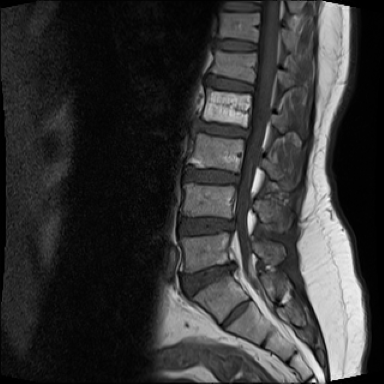Degenerative Disc Disease (DDD): (189, 118, 254, 142)
Lumbar Disc Bulge (LDB): (175, 254, 240, 304), (170, 210, 244, 244)
Normal IVD: (176, 162, 242, 190), (199, 71, 256, 97), (208, 37, 262, 55), (214, 1, 265, 14)
Spinal Stenosis (SS): (217, 209, 241, 240), (222, 254, 241, 281), (234, 123, 254, 144)
